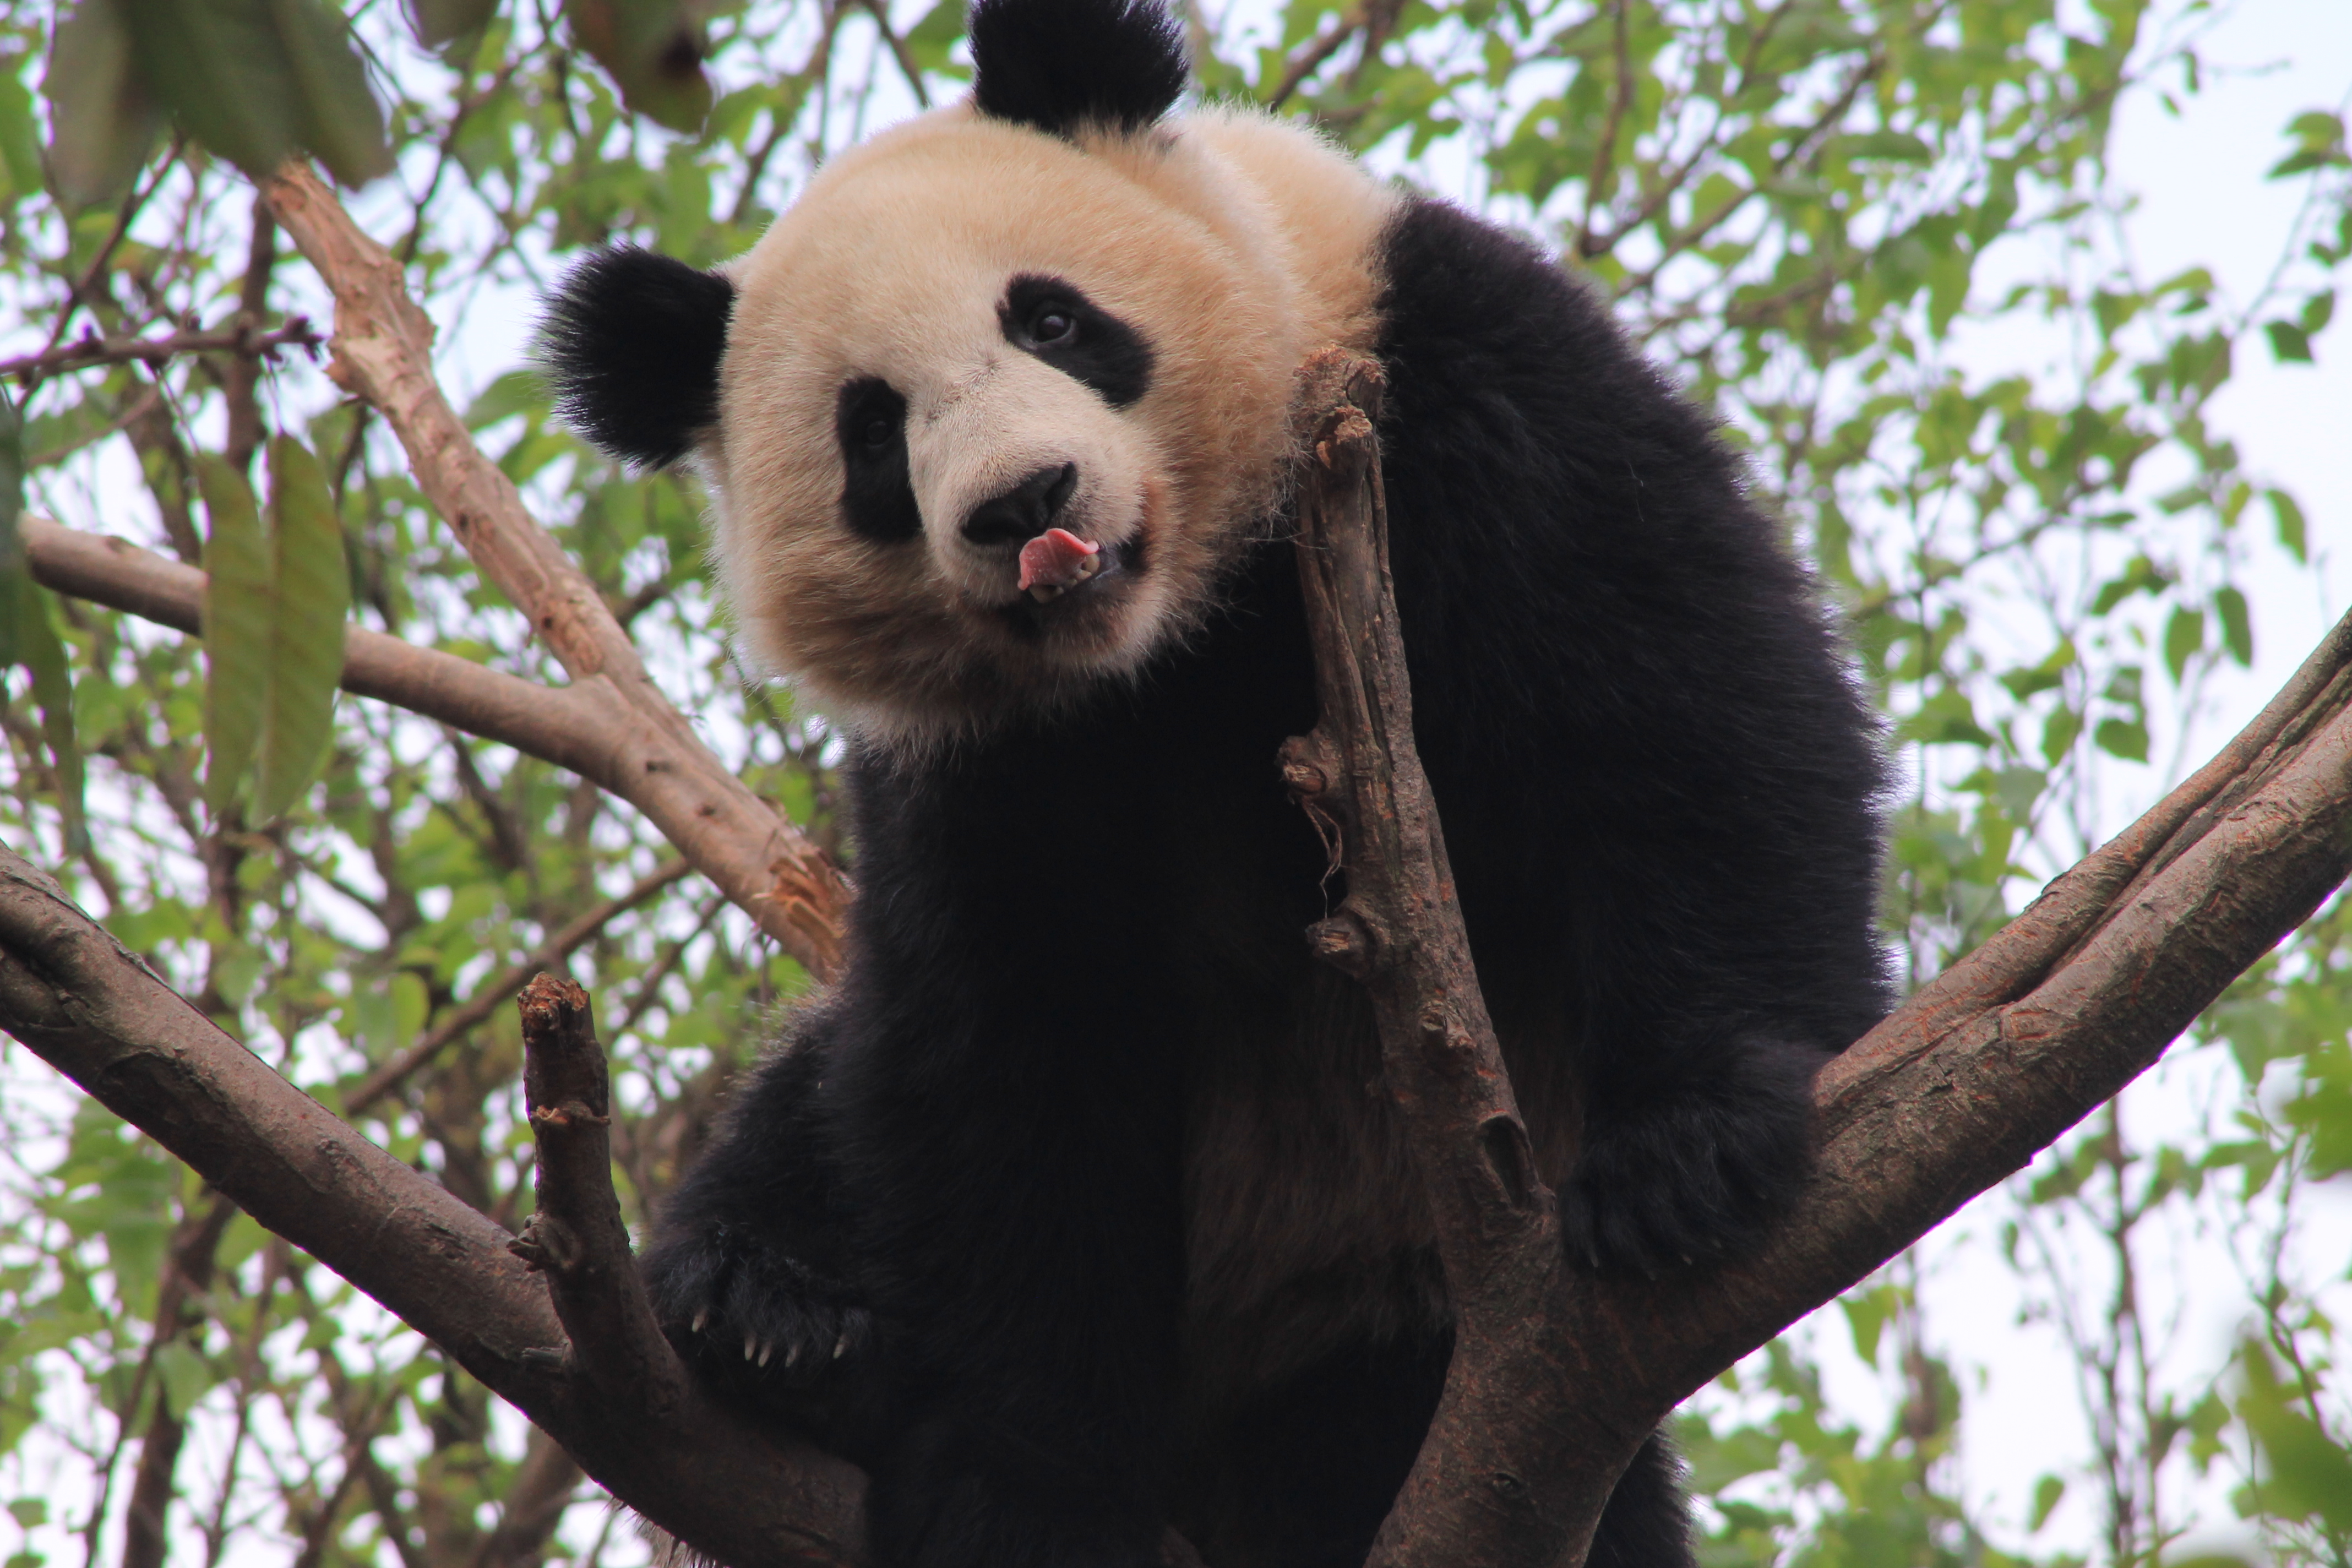panda: (541, 23, 1909, 1459)
